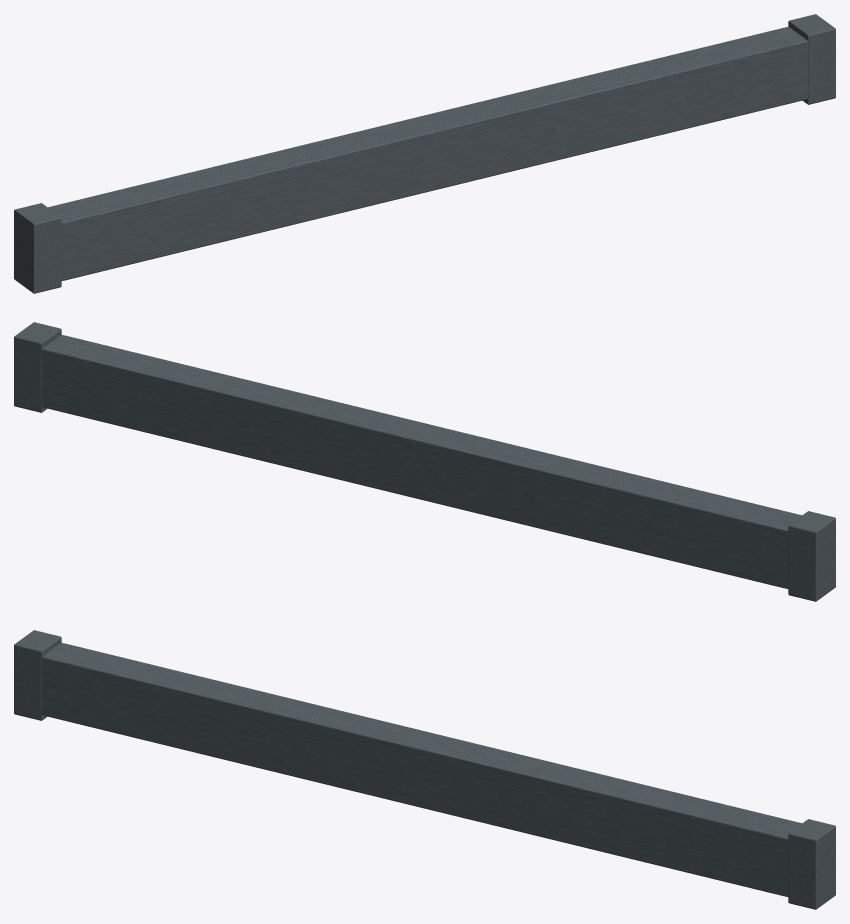
The model's file is beam.glb.
The picture shows the model from 3 angles, top to bottom: view 1: azimuth 30°, elevation 25°; view 2: azimuth 150°, elevation 25°; view 3: azimuth 330°, elevation 25°; orthographic projection.
Visible parts, largest first — view 1: duct, flange (×2); view 2: duct, flange (×2); view 3: duct, flange (×2).
Part boxes in pixels (box(x1,y1,x2,y2)): duct: box(48, 26, 807, 280); flange (×2): box(14, 14, 835, 293); duct: box(42, 334, 801, 588); flange (×2): box(14, 322, 835, 601); duct: box(42, 642, 801, 896); flange (×2): box(14, 630, 835, 909).
Bounding box in the file's own units: 2.98 × 0.25 × 0.13.
Materials: 1 (1 with a texture image).
